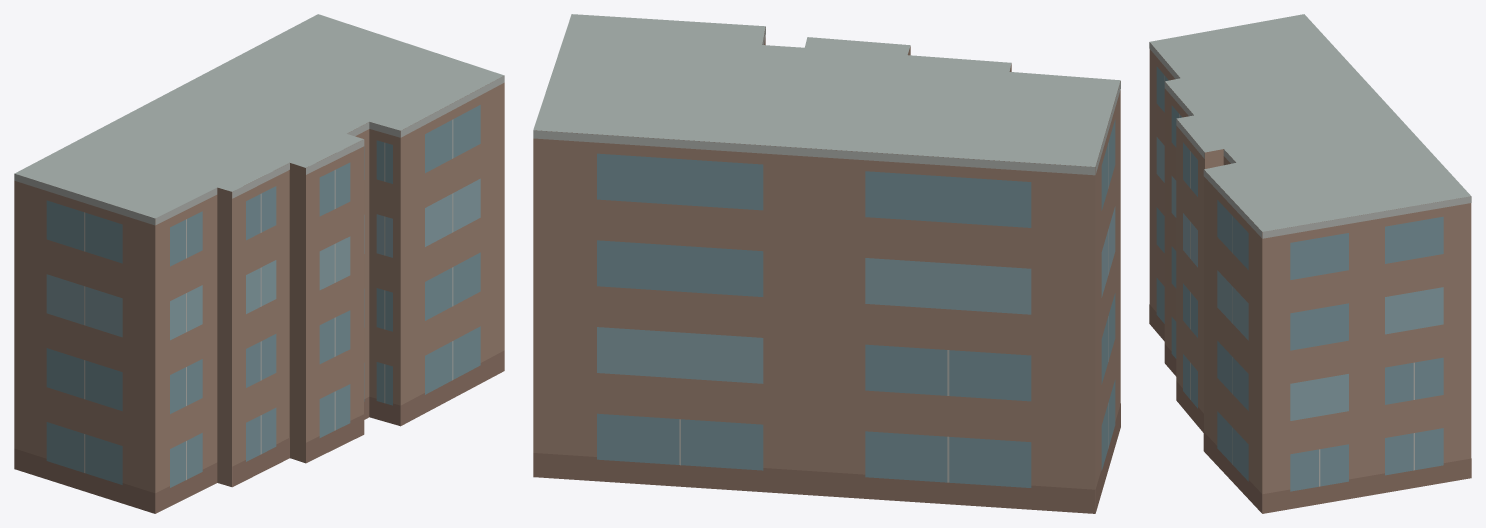
Rendered from survey-upis-32961845.glb.
3 renders of one model, left to right at view 1: azimuth 30°, elevation 25°; view 2: azimuth 150°, elevation 25°; view 3: azimuth 270°, elevation 25°, orthographic. The views are drawn at different scales.
Visible parts, largest first — view 1: survey-upis-32961845.tmp; view 2: survey-upis-32961845.tmp; view 3: survey-upis-32961845.tmp.
Part boxes in pixels (box(x1,y1,x2,y2)): survey-upis-32961845.tmp: box(14, 14, 504, 513); survey-upis-32961845.tmp: box(533, 14, 1120, 513); survey-upis-32961845.tmp: box(1149, 14, 1471, 513).
Bounding box in the file's own units: 16.93 × 10.2 × 10.57.
